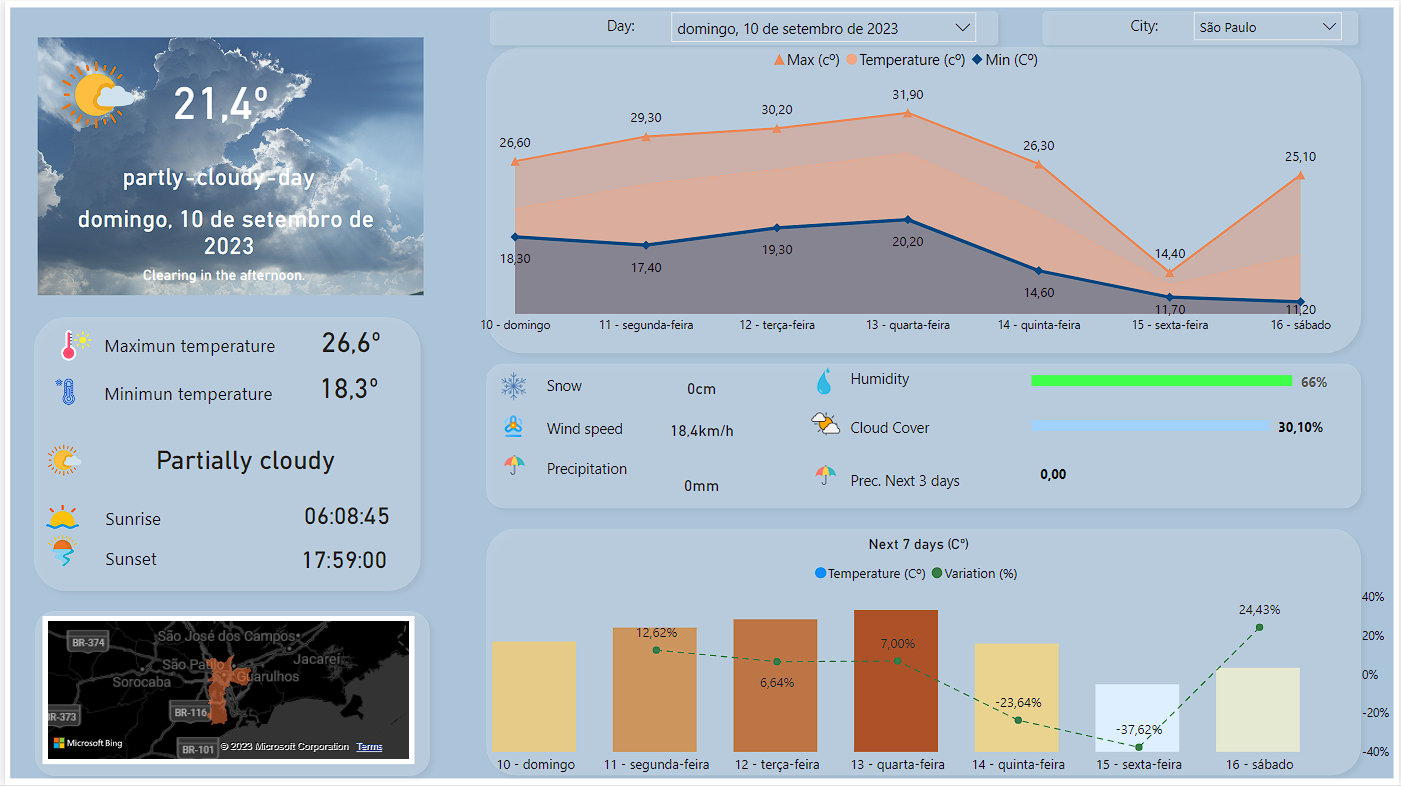

The page's visual inventory and layout, read from the dashboard file:
{"tool":"powerbi","page":{"name":"Dashboard Weather","canvas":[1280,720],"ordinal":0},"visuals":[{"type":"cardVisual","fields":{"Data":["Max(Condicoes.conditions)"]},"box":[0,1.4,1280.3,718.7],"z":0},{"type":"cardVisual","fields":{"Data":["Max(Condicoes.conditions)"]},"box":[8.8,13,401,282.4],"z":1000},{"type":"shape","box":[16.7,280.8,373.9,269.7],"z":2000},{"type":"shape","box":[18.1,550.5,380.9,169.6],"z":3000},{"type":"shape","box":[432.3,475.4,821.5,244.7],"z":4000},{"type":"shape","box":[432.3,33.4,821.5,298.9],"z":5000},{"type":"shape","box":[432.3,323.9,821.5,151.5],"z":6000},{"type":"shape","box":[436.6,0,484.8,49.7],"z":7000},{"type":"shape","box":[943.6,0,308.3,49.4],"z":8000},{"type":"areaChart","title":"Next 7 days","fields":{"Category":["Dim_calendar.WeekDay/DayName"],"Y":["Sum(Temperatura.feelslikemax)","Sum(Temperatura.temp)","Sum(Temperatura.feelslikemin)"]},"box":[416.1,33.8,827.3,281],"z":9000},{"type":"slicer","fields":{"Values":["Dim_City.Cidade"]},"box":[1081.8,0,156.8,41],"z":10000},{"type":"card","fields":{"Values":["Max(Temperatura.Temp_)"]},"box":[129.6,43.3,136.9,92.9],"z":11000},{"type":"card","fields":{"Values":["Max(Temperatura.Maxima)"]},"box":[279.4,291.9,77.8,41.7],"z":12000},{"type":"card","fields":{"Values":["Min(Temperatura.Temp_min)"]},"box":[278,332.2,76.5,45.9],"z":13000},{"type":"card","fields":{"Values":["Max(Condicoes.conditions)"]},"box":[75.1,397.6,293.3,47.3],"z":14000},{"type":"barChart","title":"Huminade","fields":{"Category":["Condicoes.City"],"Y":["Medidas.Umidade"]},"box":[938.3,315.6,300.3,61.2],"z":15000},{"type":"barChart","fields":{"Category":["Condicoes.City"],"Y":["Medidas.CloudOver"]},"box":[938.3,354.5,300.3,65.3],"z":16000},{"type":"card","fields":{"Values":["Min(Dim_calendar.Date)"]},"box":[34.2,177.7,342.3,68.5],"z":17000},{"type":"card","fields":{"Values":["Max(Condicoes.icon)"]},"box":[74.6,143.3,243.3,35.4],"z":18000},{"type":"card","fields":{"Values":["Max(Condicoes.description)"]},"box":[29.3,232,342.3,42.8],"z":19000},{"type":"textbox","box":[85.6,299.1,177.3,37.4],"z":20000},{"type":"textbox","box":[86.2,344.7,176.5,33.4],"z":21000},{"type":"card","fields":{"Values":["Min(Condicoes.show)"]},"box":[601.4,342.3,77,25.7],"z":22000},{"type":"card","fields":{"Values":["Min(Condicoes.Wind_speed)"]},"box":[601.4,381.4,77,25.7],"z":23000},{"type":"card","fields":{"Values":["Min(Condicoes.Perciptacao)"]},"box":[601.4,431.5,77,25.7],"z":24000},{"type":"barChart","fields":{"Category":["Condicoes.City"],"Y":["Sum(Condicoes.precip)"]},"box":[938.3,398,300.3,65.1],"z":25000},{"type":"card","fields":{"Values":["Max(Condicoes.sunrise - hr)"]},"box":[253,444.8,123.7,55.6],"z":26000},{"type":"card","fields":{"Values":["Max(Condicoes.sunset - hr)"]},"box":[253,496.3,118.2,33.4],"z":27000},{"type":"lineStackedColumnComboChart","title":"Next 7 days (Cº)","fields":{"Category":["Dim_calendar.WeekDay/DayName"],"Y":["Medidas.Temperatura"],"Y2":["Medidas.Dif_day"]},"box":[398.5,491.4,881.4,228.6],"z":28000},{"type":"textbox","box":[492.9,338.7,108.8,30.3],"z":29000},{"type":"textbox","box":[492.9,378.7,108.8,30.3],"z":30000},{"type":"textbox","box":[492.9,415.8,108.8,38.6],"z":31000},{"type":"textbox","box":[771.9,332.9,115.8,31.4],"z":32000},{"type":"textbox","box":[771.9,377.5,111,27.7],"z":33000},{"type":"textbox","box":[771.9,425.7,144.7,38.6],"z":34000},{"type":"cardVisual","fields":{"Data":["Max(Condicoes.conditions)"]},"box":[28.9,33.2,118.4,102.5],"z":35000},{"type":"filledMap","fields":{"Category":["Dim_City.Cidade"],"Series":["Temperatura.temp"]},"box":[34.8,564.4,342,136.2],"z":36000},{"type":"textbox","box":[87.6,458.7,76.5,33.4],"z":37000},{"type":"textbox","box":[87.6,496.3,77.8,33.4],"z":38000},{"type":"cardVisual","fields":{"Data":["Max(Condicoes.conditions)"]},"box":[16.7,387.8,79.2,66.7],"z":39000},{"type":"slicer","fields":{"Values":["Dim_calendar.Date"]},"box":[601.8,0,300.3,42.2],"z":40000},{"type":"cardVisual","fields":{"Data":["Min(Tb_icones_fixos.Name)"]},"box":[28.9,283.7,78.5,62],"z":41000},{"type":"cardVisual","fields":{"Data":["Min(Tb_icones_fixos.Name)"]},"box":[17.9,326.3,78.5,62],"z":42000},{"type":"cardVisual","fields":{"Data":["Min(Tb_icones_fixos.Name)"]},"box":[16.5,440.6,78.5,62],"z":43000},{"type":"cardVisual","fields":{"Data":["Min(Tb_icones_fixos.Name)"]},"box":[16.5,472.3,78.5,62],"z":44000},{"type":"cardVisual","fields":{"Data":["Min(Tb_icones_fixos.Name)"]},"box":[432.4,323.6,73,48.2],"z":45000},{"type":"cardVisual","fields":{"Data":["Min(Tb_icones_fixos.Name)"]},"box":[432.4,360.8,73,48.2],"z":46000},{"type":"cardVisual","fields":{"Data":["Min(Tb_icones_fixos.Name)"]},"box":[433.7,396.6,73,48.2],"z":47000},{"type":"cardVisual","fields":{"Data":["Min(Tb_icones_fixos.Name)"]},"box":[720.1,318.1,73,55.1],"z":48000},{"type":"cardVisual","fields":{"Data":["Min(Tb_icones_fixos.Name)"]},"box":[720.1,358,73,55.1],"z":49000},{"type":"cardVisual","fields":{"Data":["Min(Tb_icones_fixos.Name)"]},"box":[720.1,404.8,73,48.2],"z":50000},{"type":"textbox","box":[1028.7,8.4,68.7,32.6],"z":51000},{"type":"textbox","box":[547.5,8.4,68.7,32.6],"z":52000}]}

Visuals, with their boxes in screenshot pixels (x1, y1, x2, y2), scaled from the page's 1280x720 canvas onto the 1401x786 screenshot:
cardVisual - Max(Condicoes.conditions): [0, 2, 1400, 785]
cardVisual - Max(Condicoes.conditions): [10, 14, 449, 322]
shape: [18, 307, 428, 601]
shape: [20, 601, 437, 785]
shape: [473, 519, 1372, 785]
shape: [473, 36, 1372, 363]
shape: [473, 354, 1372, 519]
shape: [478, 0, 1009, 54]
shape: [1033, 0, 1370, 54]
"Next 7 days" areaChart: [455, 37, 1361, 344]
slicer - Dim_City.Cidade: [1184, 0, 1356, 45]
card - Max(Temperatura.Temp_): [142, 47, 292, 149]
card - Max(Temperatura.Maxima): [306, 319, 391, 364]
card - Min(Temperatura.Temp_min): [304, 363, 388, 413]
card - Max(Condicoes.conditions): [82, 434, 403, 486]
"Huminade" barChart: [1027, 345, 1356, 411]
barChart - Condicoes.City x Medidas.CloudOver: [1027, 387, 1356, 458]
card - Min(Dim_calendar.Date): [37, 194, 412, 269]
card - Max(Condicoes.icon): [82, 156, 348, 195]
card - Max(Condicoes.description): [32, 253, 407, 300]
textbox: [94, 327, 288, 367]
textbox: [94, 376, 288, 413]
card - Min(Condicoes.show): [658, 374, 743, 402]
card - Min(Condicoes.Wind_speed): [658, 416, 743, 444]
card - Min(Condicoes.Perciptacao): [658, 471, 743, 499]
barChart - Condicoes.City x Sum(Condicoes.precip): [1027, 434, 1356, 506]
card - Max(Condicoes.sunrise - hr): [277, 486, 412, 546]
card - Max(Condicoes.sunset - hr): [277, 542, 406, 578]
"Next 7 days (Cº)" lineStackedColumnComboChart: [436, 536, 1400, 785]
textbox: [539, 370, 659, 403]
textbox: [539, 413, 659, 446]
textbox: [539, 454, 659, 496]
textbox: [845, 363, 972, 398]
textbox: [845, 412, 966, 442]
textbox: [845, 465, 1003, 507]
cardVisual - Max(Condicoes.conditions): [32, 36, 161, 148]
filledMap - Dim_City.Cidade x Temperatura.temp: [38, 616, 412, 765]
textbox: [96, 501, 180, 537]
textbox: [96, 542, 181, 578]
cardVisual - Max(Condicoes.conditions): [18, 423, 105, 496]
slicer - Dim_calendar.Date: [659, 0, 987, 46]
cardVisual - Min(Tb_icones_fixos.Name): [32, 310, 118, 377]
cardVisual - Min(Tb_icones_fixos.Name): [20, 356, 106, 424]
cardVisual - Min(Tb_icones_fixos.Name): [18, 481, 104, 549]
cardVisual - Min(Tb_icones_fixos.Name): [18, 516, 104, 583]
cardVisual - Min(Tb_icones_fixos.Name): [473, 353, 553, 406]
cardVisual - Min(Tb_icones_fixos.Name): [473, 394, 553, 446]
cardVisual - Min(Tb_icones_fixos.Name): [475, 433, 555, 486]
cardVisual - Min(Tb_icones_fixos.Name): [788, 347, 868, 407]
cardVisual - Min(Tb_icones_fixos.Name): [788, 391, 868, 451]
cardVisual - Min(Tb_icones_fixos.Name): [788, 442, 868, 495]
textbox: [1126, 9, 1201, 45]
textbox: [599, 9, 674, 45]
